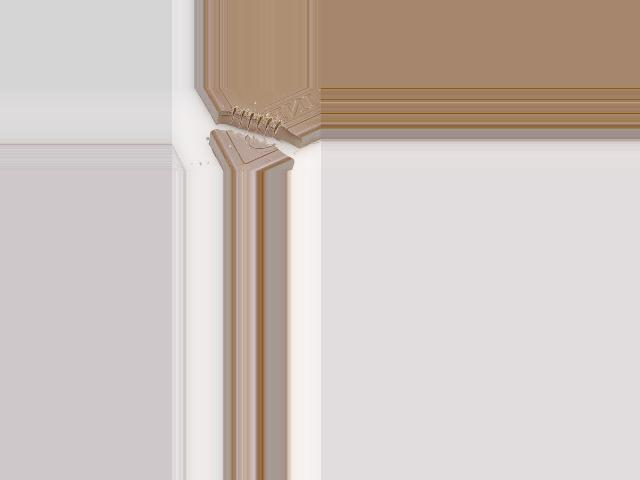chocolate: (193, 89, 320, 171)
